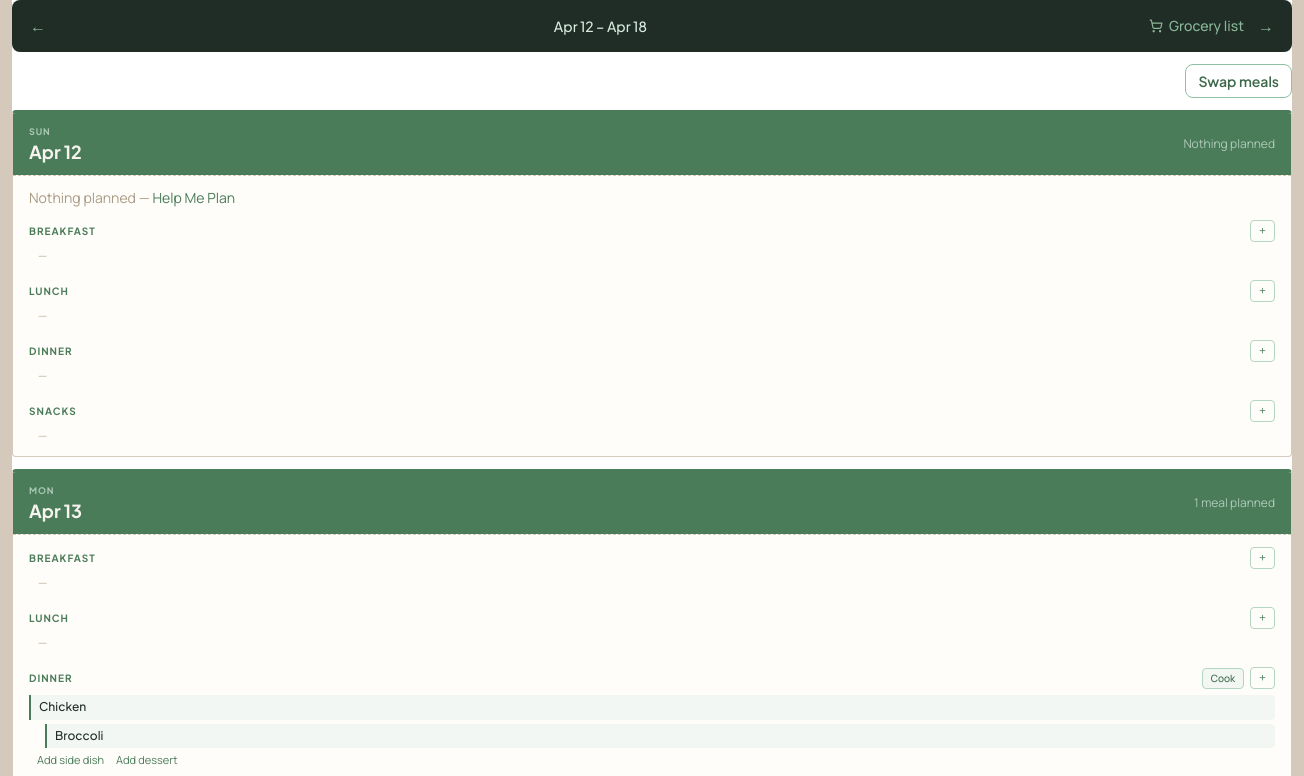
Test: WeekCalendar - swap meals (regression #303) › side dish moves with its parent in the optimistic update
Expected: the text "Chicken" is shown, [39,699,86,714]
Expected: the text "Broccoli" is shown, [55,728,103,742]
# Swap Chicken (Monday) with Tacos (Thursday)
Click the button "Swap meals": [1239, 81] box [1185,64,1292,98]
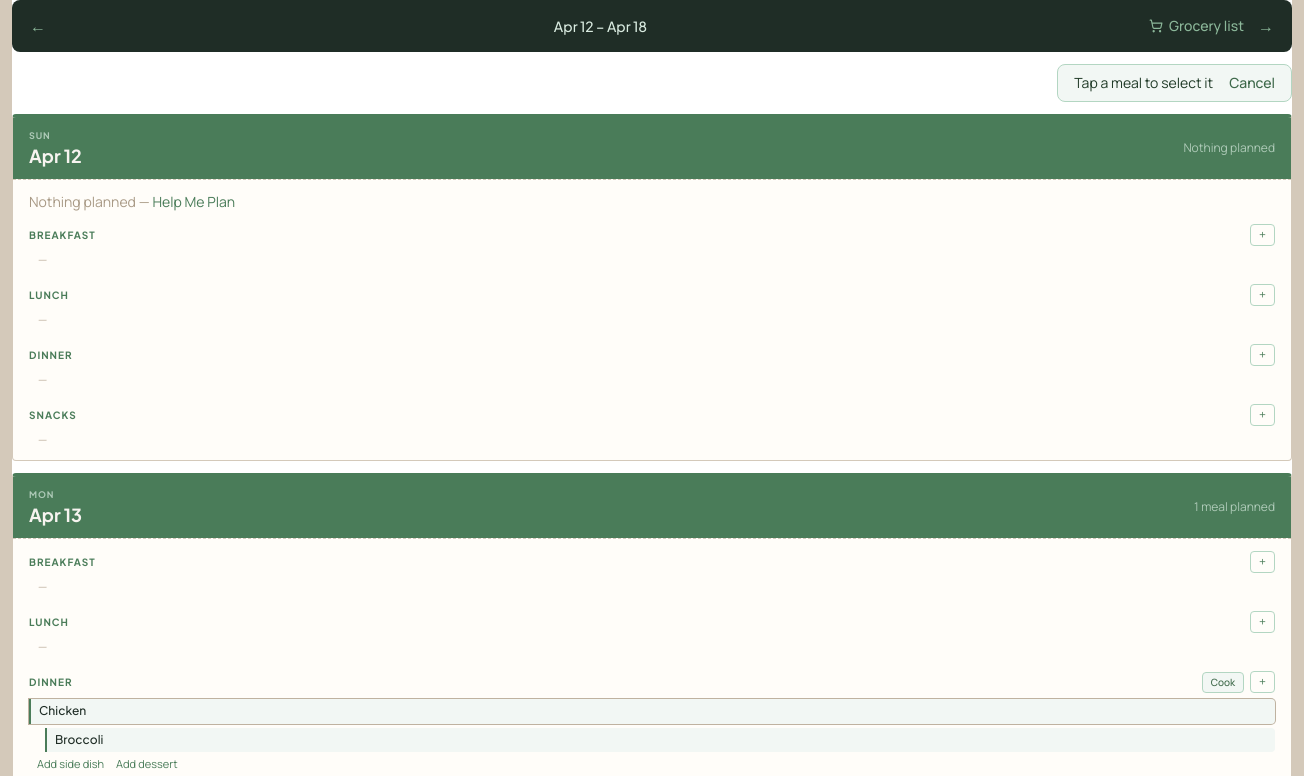
Click the text "Chicken": [652, 711] box [29,699,1275,724]
(page scrolled)
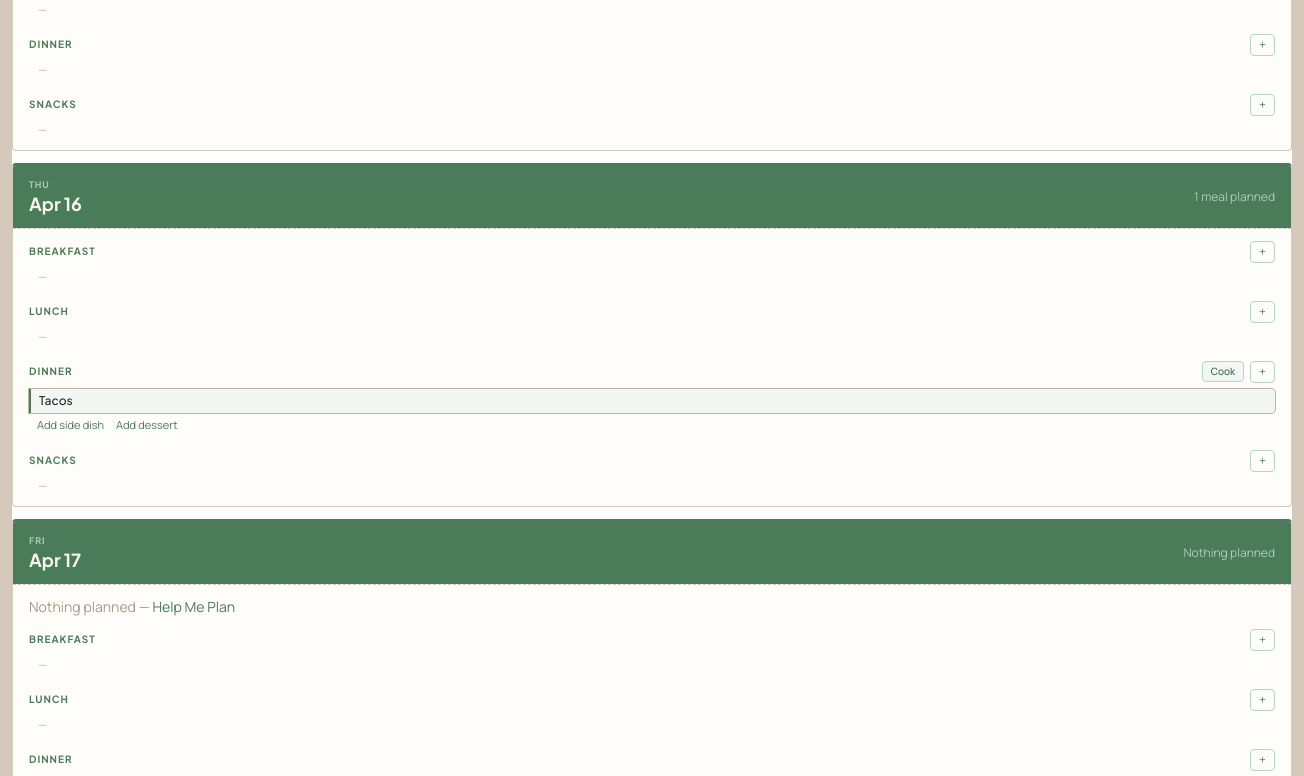
Click the text "Tacos": [652, 401] box [29,388,1275,413]
(page scrolled)
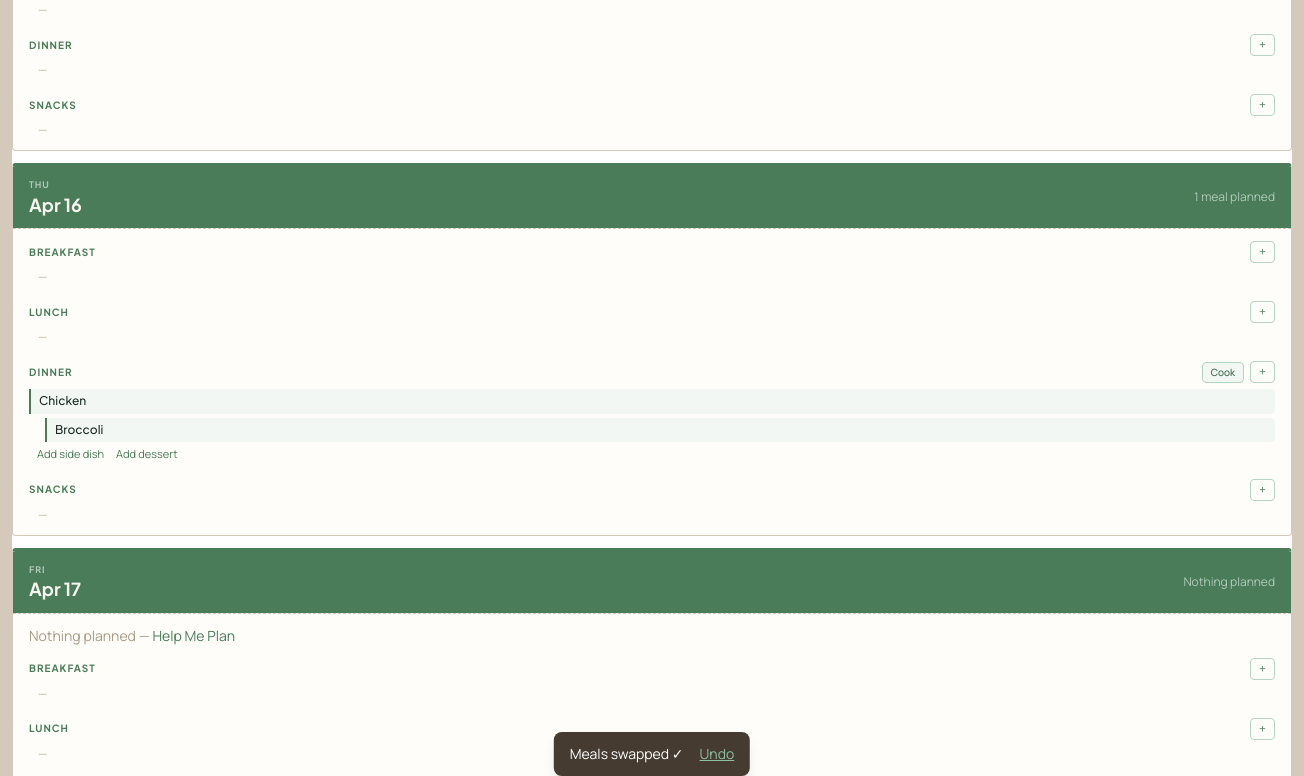
Expected: the text "Broccoli" is shown, [55,422,103,436]
